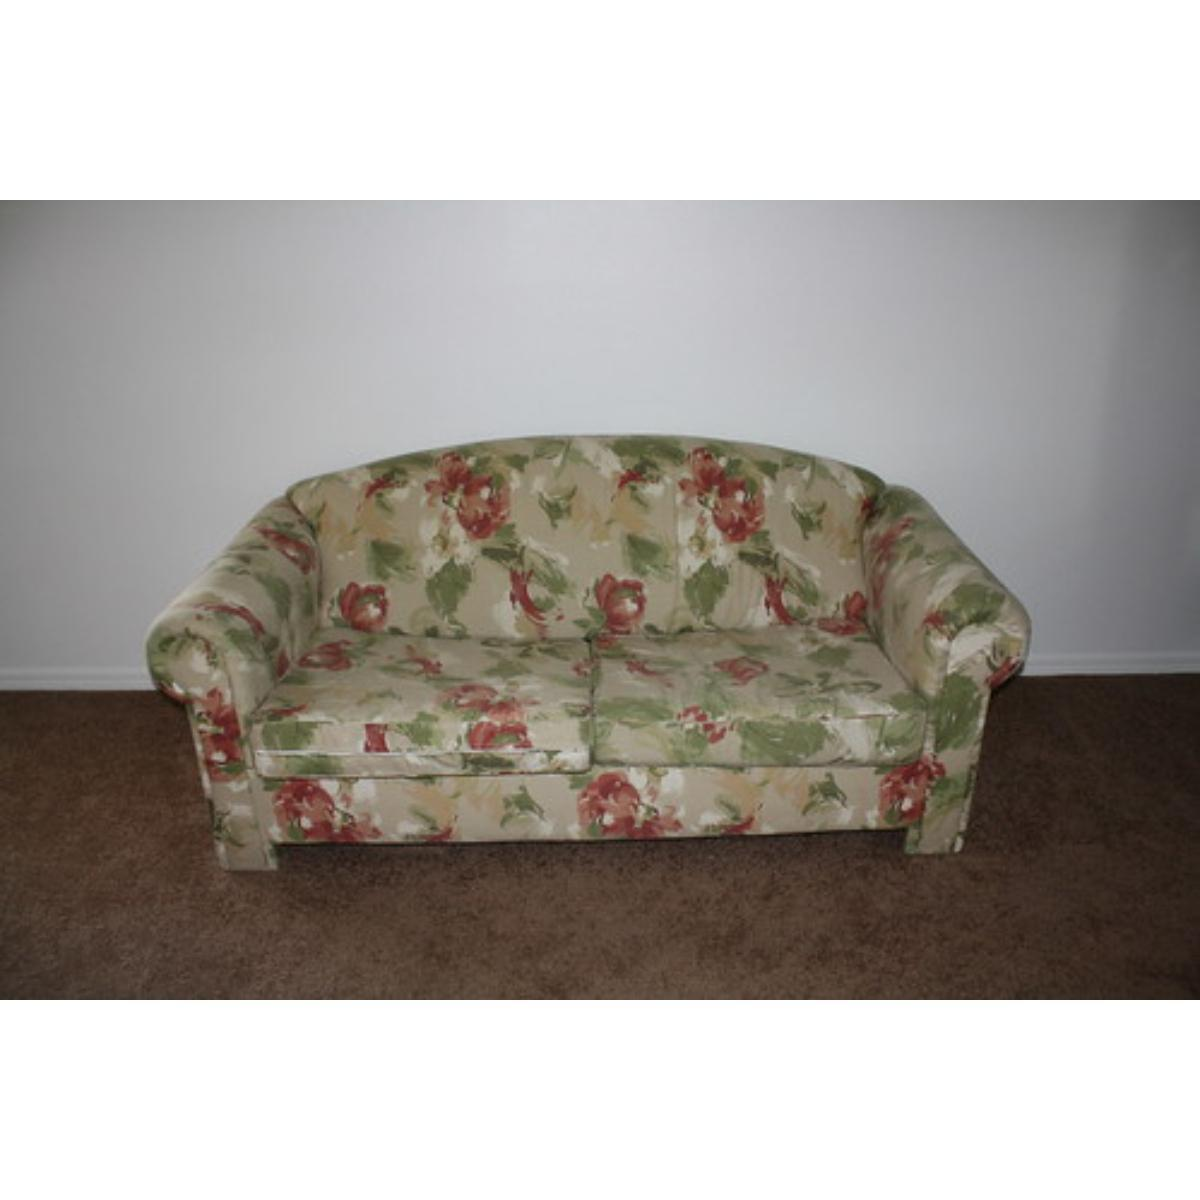Sofa: (144, 430, 1032, 869)
